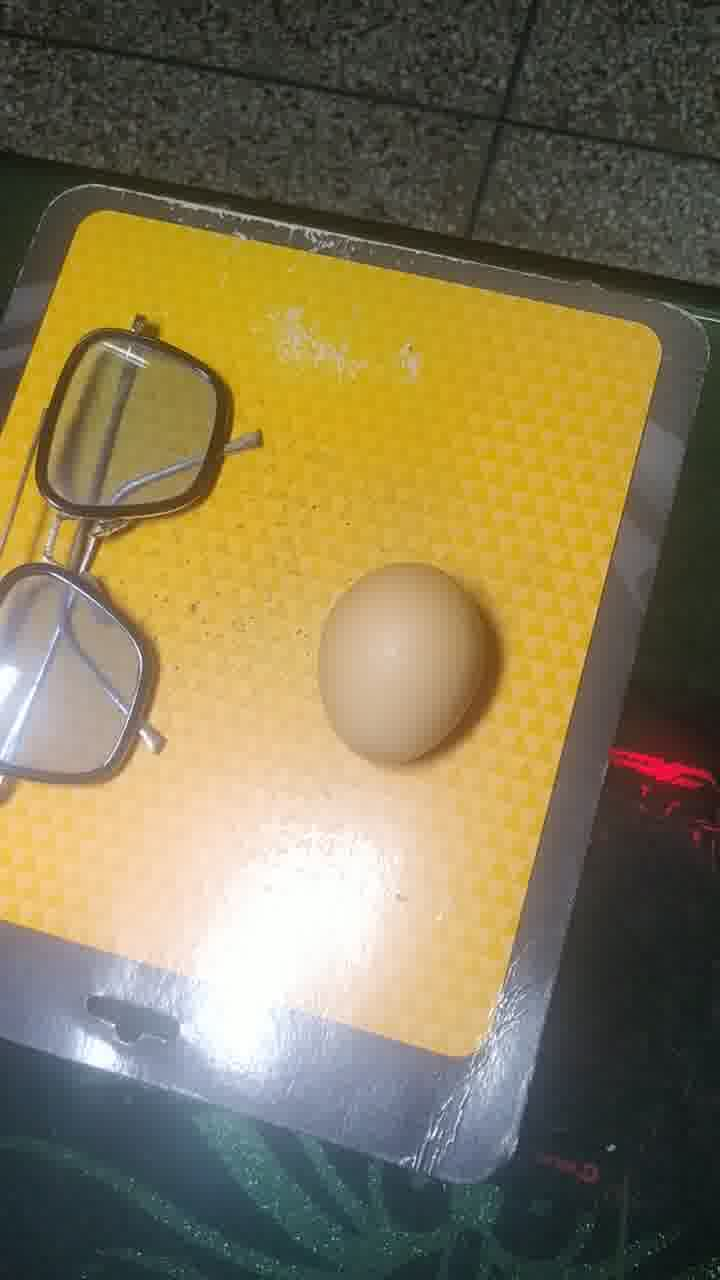egg: (317, 558, 503, 790)
sunglass: (3, 304, 271, 813)
